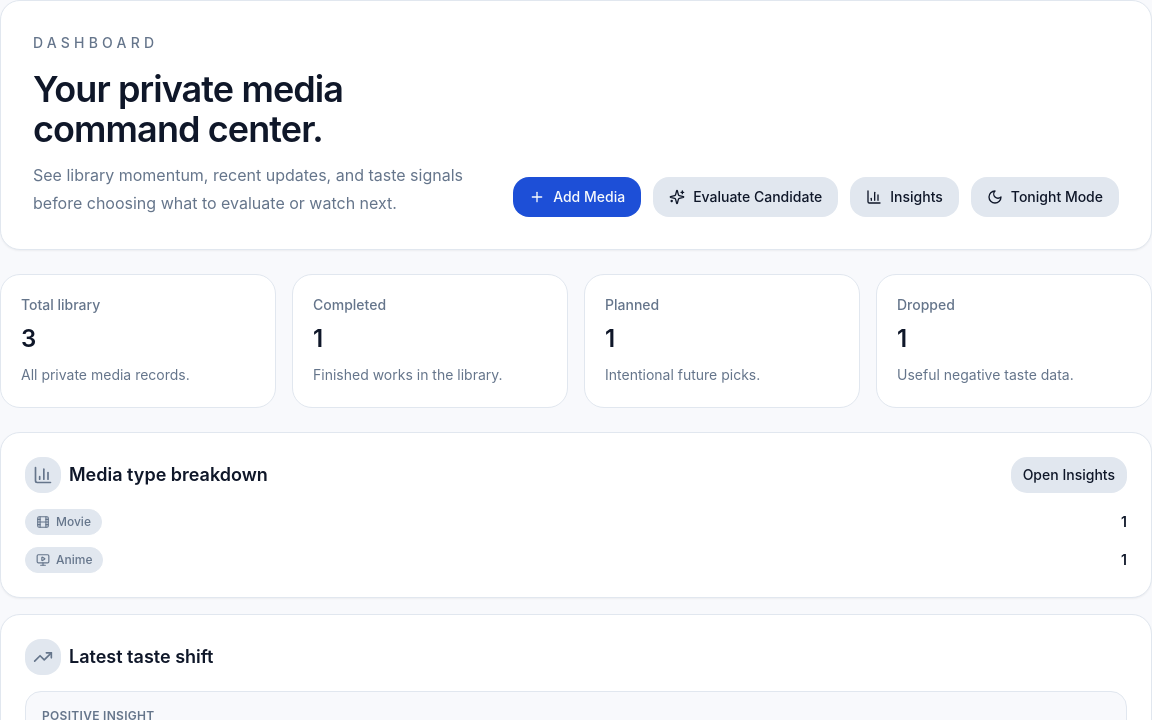
Test: DashboardPage › opens add media from the dashboard quick action
Click the button "Add Media": (577, 197) [513,177,641,217]
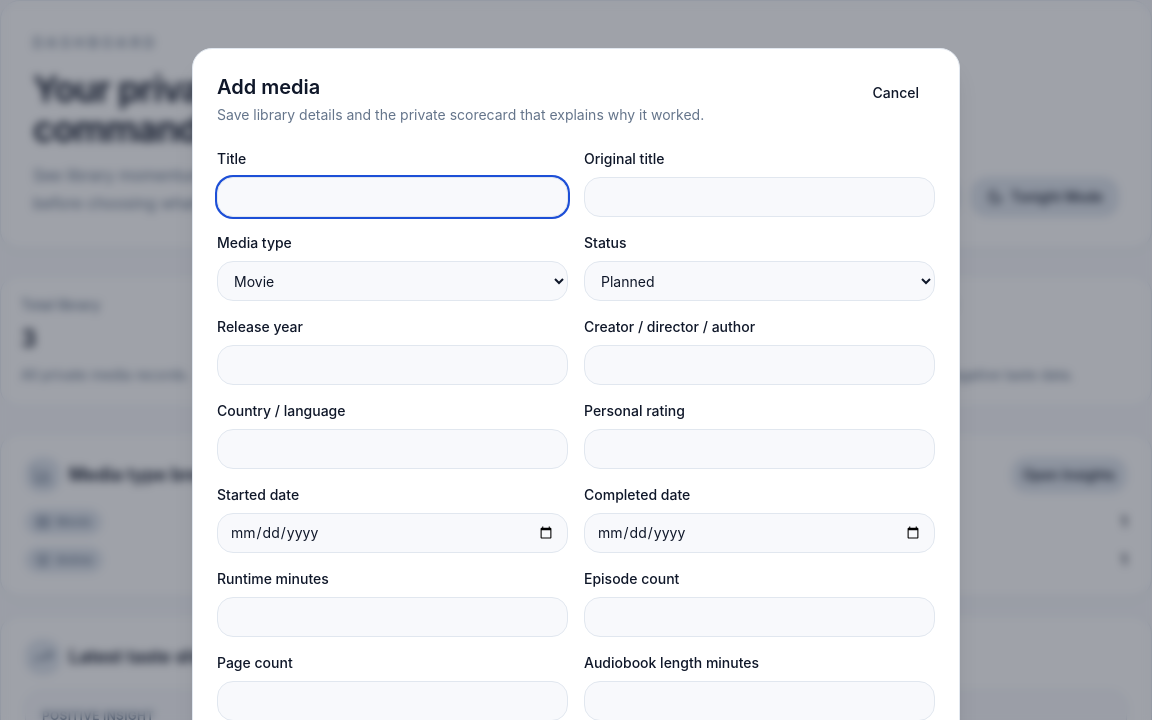
expect the dialog "Add media" is shown: met
